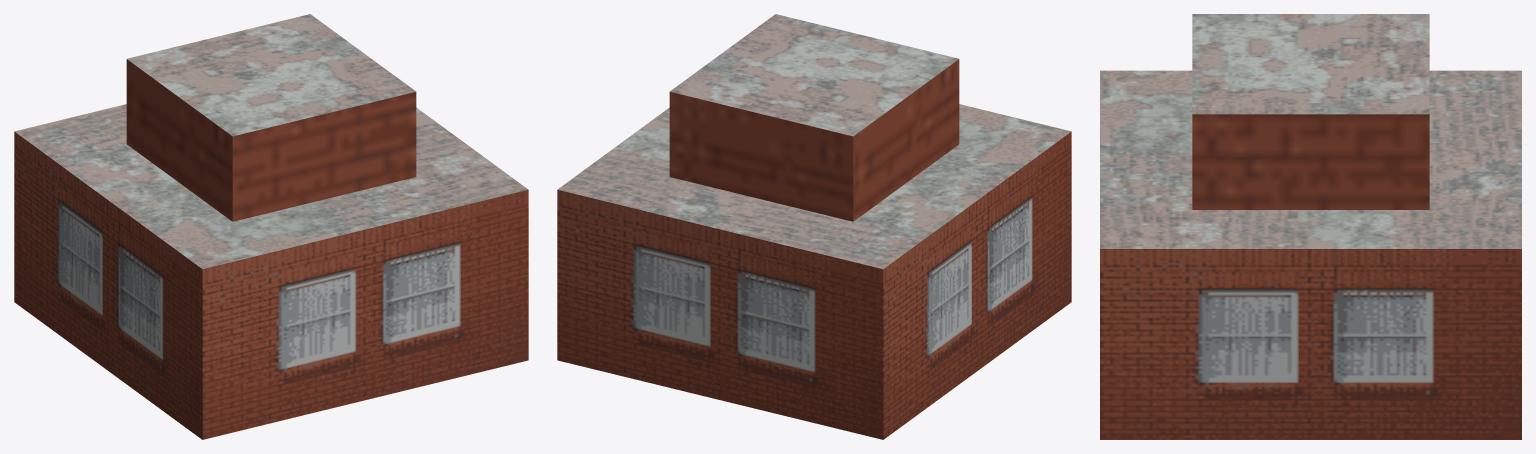
The model's file is Edificio2.fbx.
3 renders of one model, left to right at view 1: azimuth 30°, elevation 25°; view 2: azimuth 150°, elevation 25°; view 3: azimuth 270°, elevation 25°, orthographic. The views are drawn at different scales.
Visible parts, largest first — view 1: Cube.007; view 2: Cube.007; view 3: Cube.007.
Part boxes in pixels (x1,y1,x2,y2): Cube.007: (14,14,528,439); Cube.007: (557,14,1071,439); Cube.007: (1100,14,1521,439).
Bounding box in the file's own units: 400 × 300 × 400.
2 materials, 2 textured.
